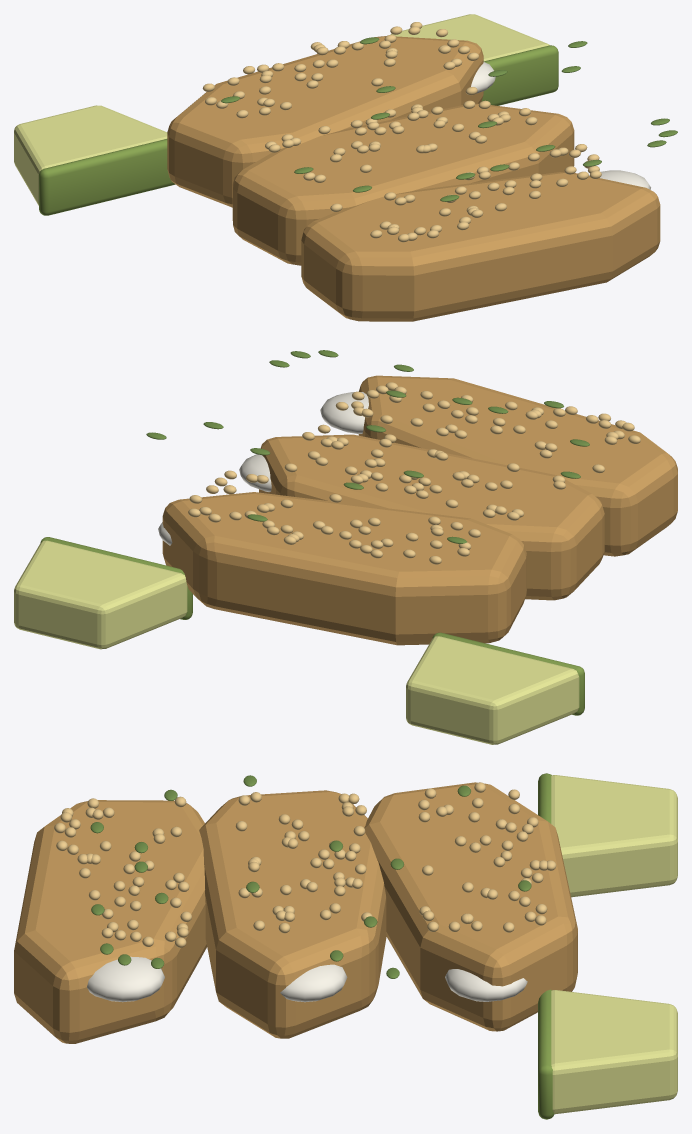
File: dish_fish_portion.glb
3 views of the same model, one above another, from view 1: azimuth 30°, elevation 25°; view 2: azimuth 150°, elevation 25°; view 3: azimuth 270°, elevation 25° (orthographic). The views are drawn at different scales.
Visible parts, largest first — view 1: file_peixe, file_peixe.001, file_peixe.002, gomo_limao, Cube, Cube.001, gomo_limao.001, carne_em_lascas, carne_em_lascas.002; view 2: file_peixe.002, file_peixe.001, file_peixe, gomo_limao, gomo_limao.001, carne_em_lascas, Cube, Cube.001, carne_em_lascas.001; view 3: file_peixe.002, file_peixe.001, file_peixe, gomo_limao.001, gomo_limao, carne_em_lascas, Cube.001, carne_em_lascas.001, carne_em_lascas.002, Cube.
Part boxes in pixels (box(x1,y1,x2,y2)): file_peixe: box(301, 172, 660, 321); file_peixe.001: box(232, 103, 574, 265); file_peixe.002: box(167, 36, 483, 207); gomo_limao: box(14, 105, 167, 205); Cube: box(39, 139, 175, 215); Cube.001: box(481, 45, 558, 105); gomo_limao.001: box(391, 14, 549, 61); carne_em_lascas: box(589, 170, 650, 189); carne_em_lascas.002: box(471, 62, 495, 93); file_peixe.002: box(162, 492, 526, 645); file_peixe.001: box(259, 434, 604, 600); file_peixe: box(358, 375, 677, 556); gomo_limao: box(406, 636, 579, 744); gomo_limao.001: box(14, 540, 187, 649); carne_em_lascas: box(320, 392, 368, 433); Cube: box(432, 632, 584, 715); Cube.001: box(40, 537, 192, 619); carne_em_lascas.001: box(239, 454, 271, 491); file_peixe.002: box(364, 782, 577, 1031); file_peixe.001: box(199, 790, 386, 1038); file_peixe: box(14, 800, 206, 1043); gomo_limao.001: box(551, 990, 677, 1114); gomo_limao: box(551, 775, 677, 897); carne_em_lascas: box(87, 956, 164, 1002); Cube.001: box(538, 989, 554, 1119); carne_em_lascas.001: box(280, 964, 347, 1002); carne_em_lascas.002: box(445, 969, 527, 1001); Cube: box(538, 773, 551, 823).
Size of the model in its own units: 0.166 by 0.0325 by 0.1567.
